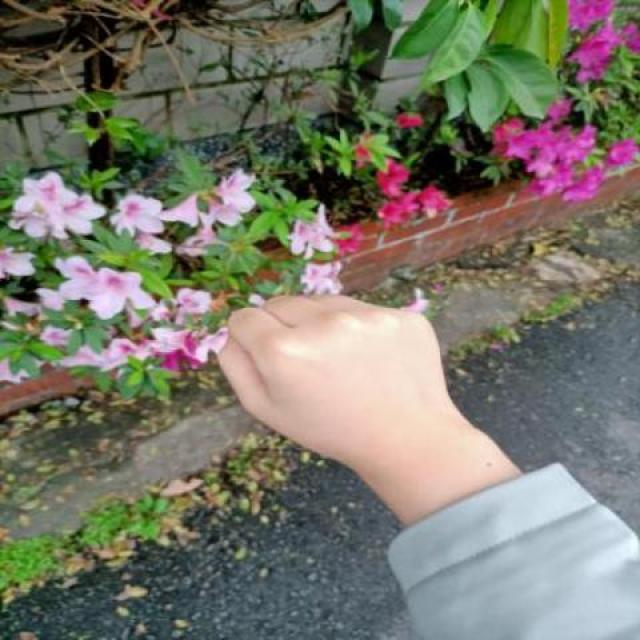Closed Hand: (205, 289, 486, 476)
